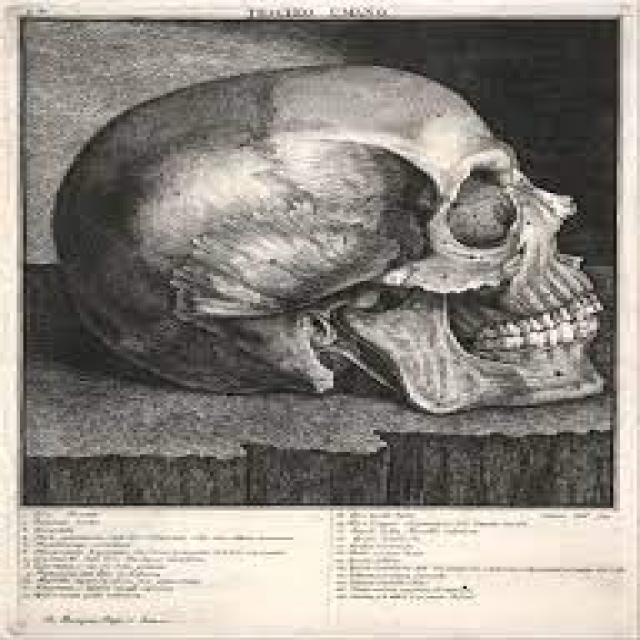skull: (42, 60, 609, 436)
